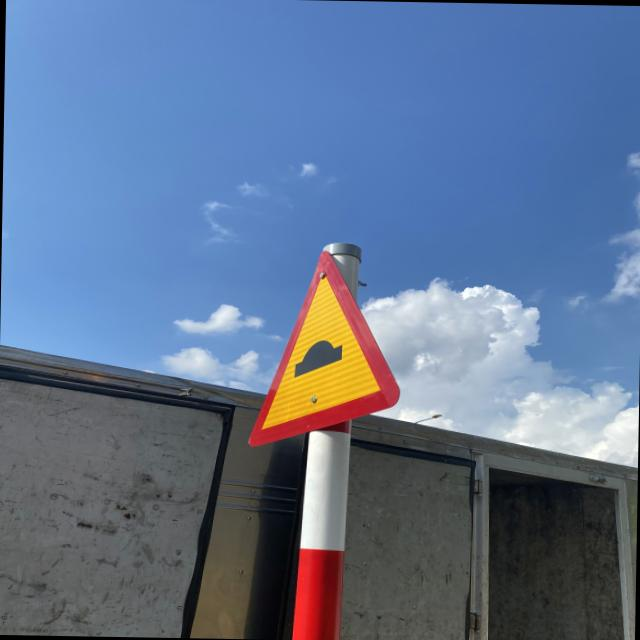Duong_Cong_Ben_Phai: (244, 247, 402, 449)
